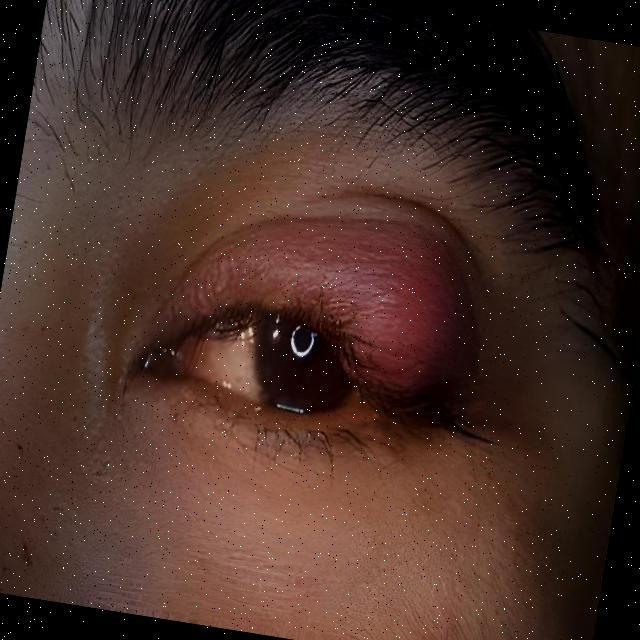Stye: (303, 230, 509, 422)
